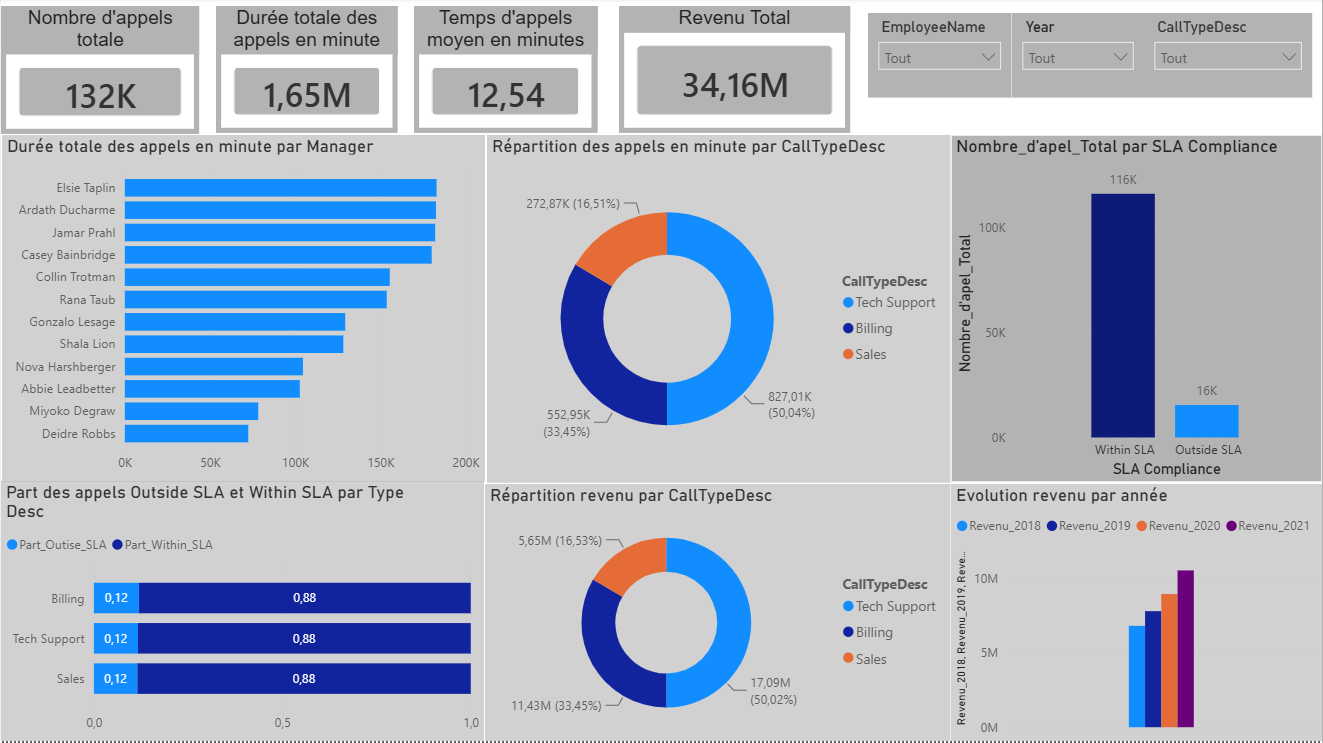

What the dashboard file says about the page in this screenshot:
{"tool":"powerbi","page":{"name":"Page 1","canvas":[1280,720],"ordinal":0},"visuals":[{"type":"donutChart","title":"Répartition des appels en minute par CallTypeDesc","fields":{"Category":["call_types.CallTypeDesc"],"Y":["Sum(Call+Center+Data.Callduration_minutes)"]},"box":[470.9,132.4,449.1,337.1],"z":0},{"type":"barChart","title":"Durée totale des appels en minute par Manager","fields":{"Y":["Sum(Call+Center+Data.Callduration_minutes)"],"Category":["employees.ManagerName"]},"box":[1.4,132.4,468.2,335.8],"z":1000},{"type":"cardVisual","title":"Durée totale des appels en minute","fields":{"Data":["Sum(Call+Center+Data.Callduration_minutes)"]},"box":[208.1,8,176,123.2],"z":2000},{"type":"cardVisual","title":"Nombre d''appels totale","fields":{"Data":["Mesures.Nombre_d'apel_Total"]},"box":[0,8.2,192.5,124.2],"z":3000},{"type":"slicer","fields":{"Values":["call_types.CallTypeDesc"]},"box":[1107.5,14.4,163.2,81.6],"z":4000},{"type":"slicer","fields":{"Values":["Call+Center+Data.Year"]},"box":[979.4,14.4,128,81.6],"z":5000},{"type":"barChart","title":"Part des appels Outside SLA et Within SLA par Type Desc","fields":{"Y":["Mesures.Part_Outise_SLA","Mesures.Part_Within_SLA"],"Category":["call_types.CallTypeDesc"]},"box":[0,468.2,468.2,252.5],"z":6000},{"type":"cardVisual","title":"Temps d''appels moyen en minutes","fields":{"Data":["Mesures.Temps_appels_moyen_minutes"]},"box":[400.1,8,177.6,123.2],"z":7000},{"type":"columnChart","fields":{"Category":["Call+Center+Data.SLA Compliance"],"Y":["Mesures.Nombre_d'apel_Total"]},"box":[920.2,132.8,360.1,336.1],"z":8000},{"type":"slicer","fields":{"Values":["employees.EmployeeName"]},"box":[840.2,14.4,139.2,81.6],"z":9000},{"type":"cardVisual","title":"Revenu Total","fields":{"Data":["Mesures.Revenu"]},"box":[598.6,8,224.1,123.2],"z":10000},{"type":"donutChart","title":"Répartition revenu par CallTypeDesc","fields":{"Category":["call_types.CallTypeDesc"],"Y":["Mesures.Revenu"]},"box":[468.9,470.5,451.3,249.7],"z":11000},{"type":"clusteredColumnChart","title":"Evolution revenu par année","fields":{"Y":["Mesures.Revenu_2018","Mesures.Revenu_2019","Mesures.Revenu_2020","Mesures.Revenu_2021"]},"box":[920.2,470.5,360.1,249.7],"z":12000}]}

Visuals, with their boxes in screenshot pixels (x1, y1, x2, y2), scaled from the page's 1280x720 canvas onto the 1323x743 screenshot:
"Répartition des appels en minute par CallTypeDesc" donutChart: <box>487,137,951,484</box>
"Durée totale des appels en minute par Manager" barChart: <box>1,137,485,483</box>
"Durée totale des appels en minute" cardVisual: <box>215,8,397,135</box>
"Nombre d''appels totale" cardVisual: <box>0,8,199,137</box>
slicer - call_types.CallTypeDesc: <box>1145,15,1313,99</box>
slicer - Call+Center+Data.Year: <box>1012,15,1145,99</box>
"Part des appels Outside SLA et Within SLA par Type Desc" barChart: <box>0,483,484,742</box>
"Temps d''appels moyen en minutes" cardVisual: <box>414,8,597,135</box>
columnChart - Call+Center+Data.SLA Compliance x Mesures.Nombre_d'apel_Total: <box>951,137,1322,484</box>
slicer - employees.EmployeeName: <box>868,15,1012,99</box>
"Revenu Total" cardVisual: <box>619,8,850,135</box>
"Répartition revenu par CallTypeDesc" donutChart: <box>485,486,951,742</box>
"Evolution revenu par année" clusteredColumnChart: <box>951,486,1322,742</box>
